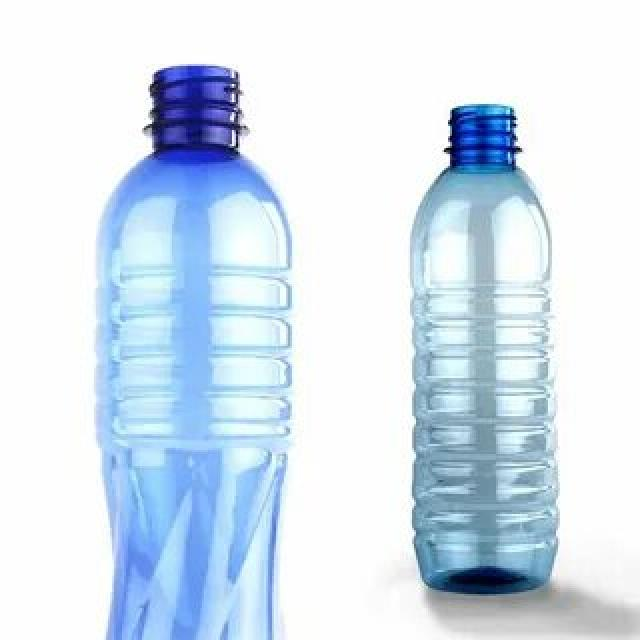blue: (94, 60, 292, 640), (410, 105, 558, 590)
